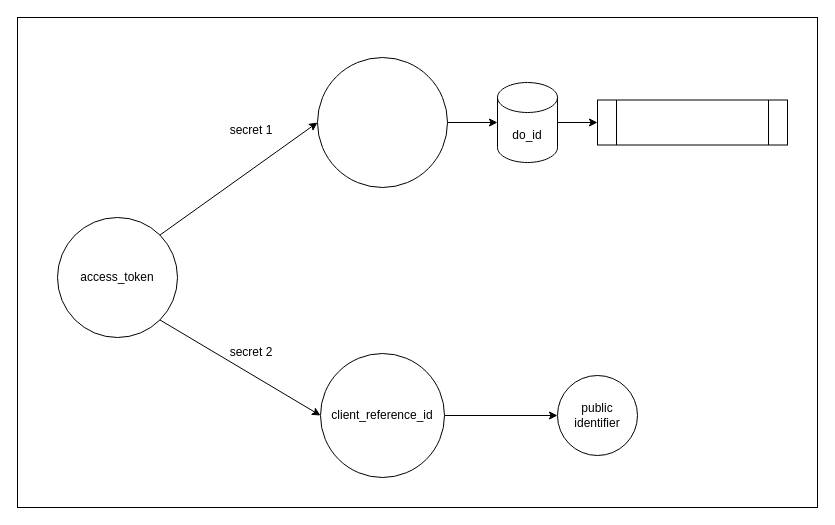
Image size: 835x525. Some labels were removed from this diagram. The centre of each missing label's shape, as x and y in pixels:
access_token_hash: the point at 382,122
primary key in user-table: the point at 692,122
